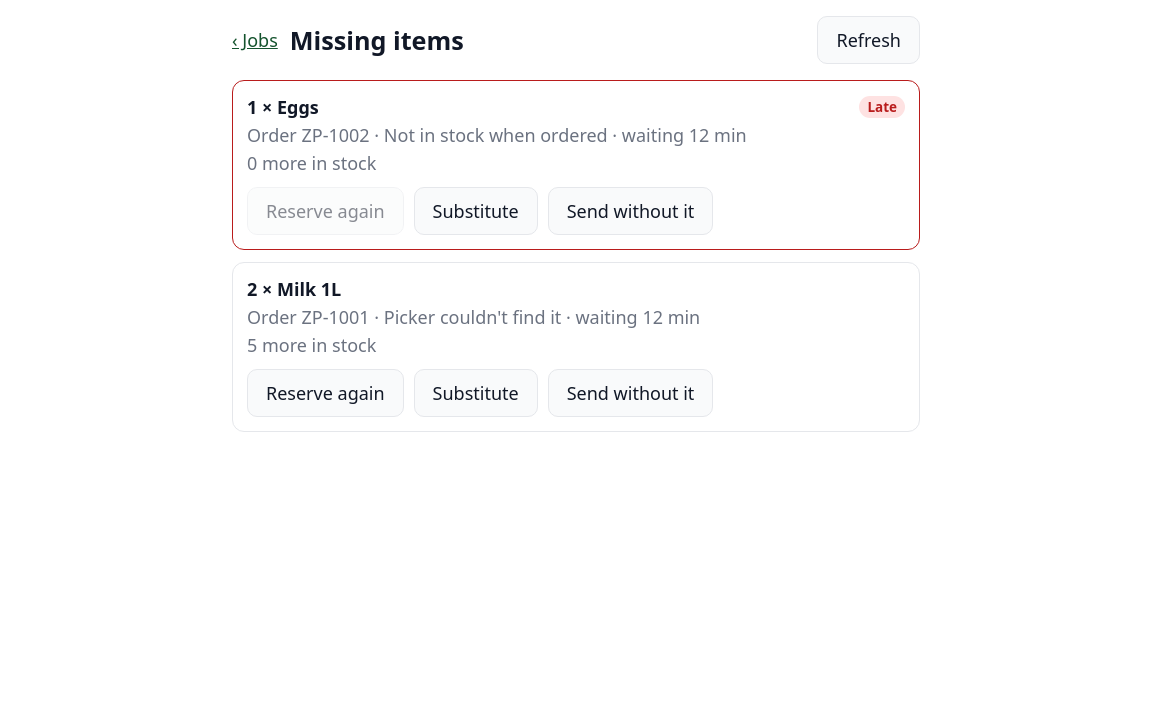
missing items screen › substitutes a searched product, leaving out the missing one itself
Click the button "Substitute" below "Milk 1L": (476, 393) [414,369,538,417]
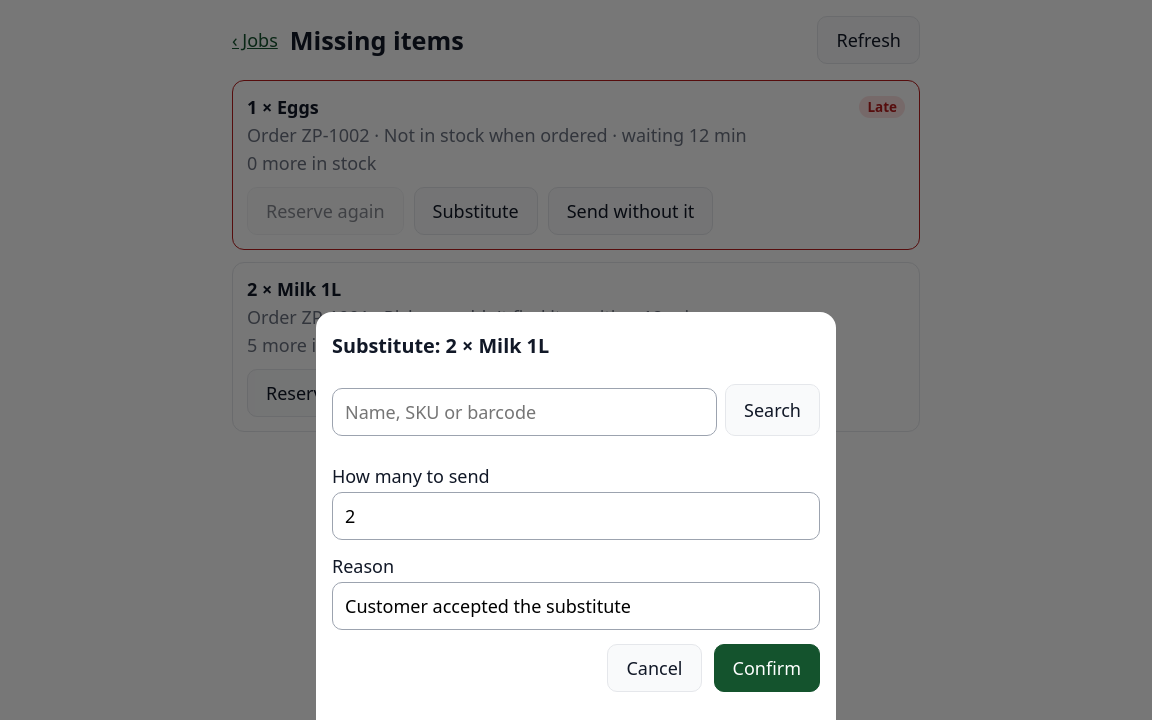
Click the button "Confirm": (767, 668) [714,644,820,692]
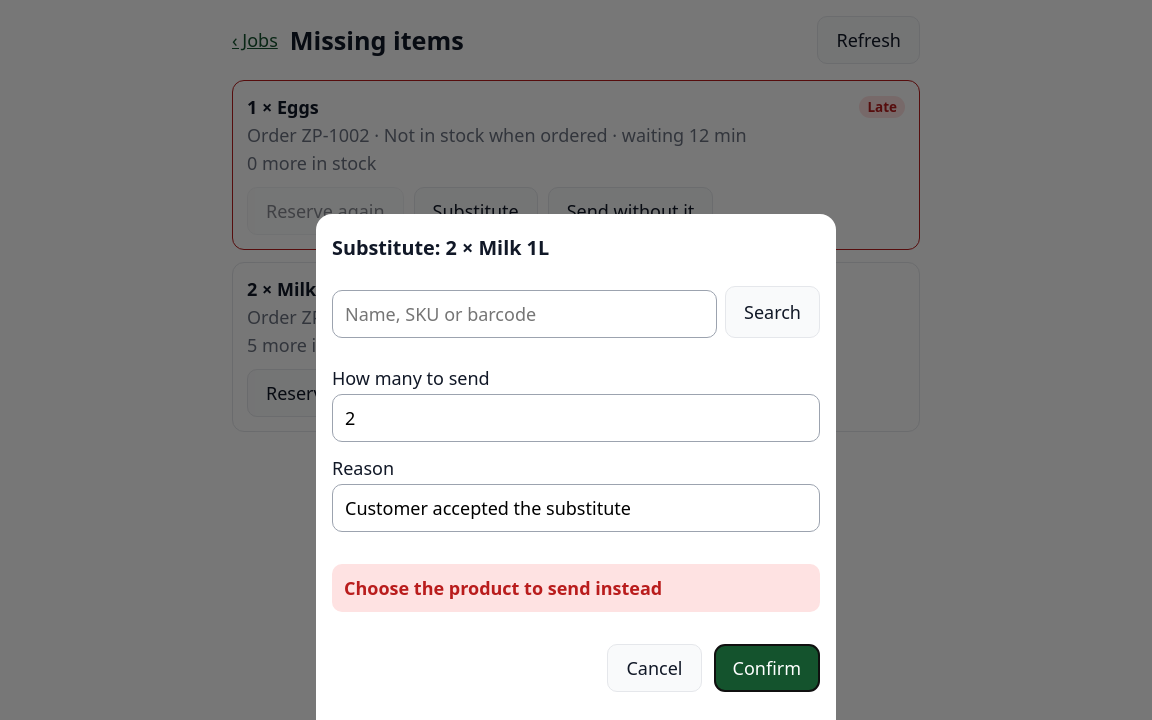
Check: the message reads "Choose the product to send instead", box [344,576,662,600]
In the field named "Search products": (524, 314) [332,290,717,338], type "dairy"
Then press Enter
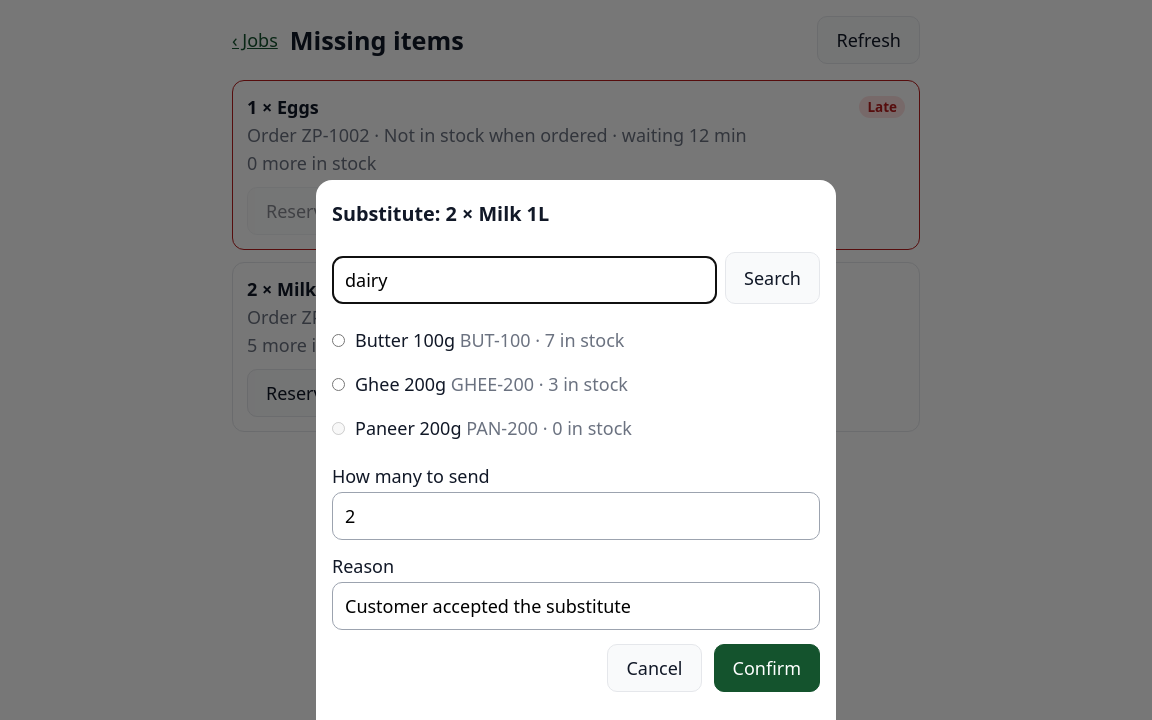
Check: the number of radio buttons is 3
Check: the radio button labelled "Paneer 200g PAN-200 · 0 in stock" is disabled, box [332,422,345,434]
Check: the text "Butter 100g BUT-100 · 7 in stock" is shown, box [332,328,624,352]
Click the radio button labelled "Ghee 200g GHEE-200 · 3 in stock": (338, 384) [332,378,345,390]
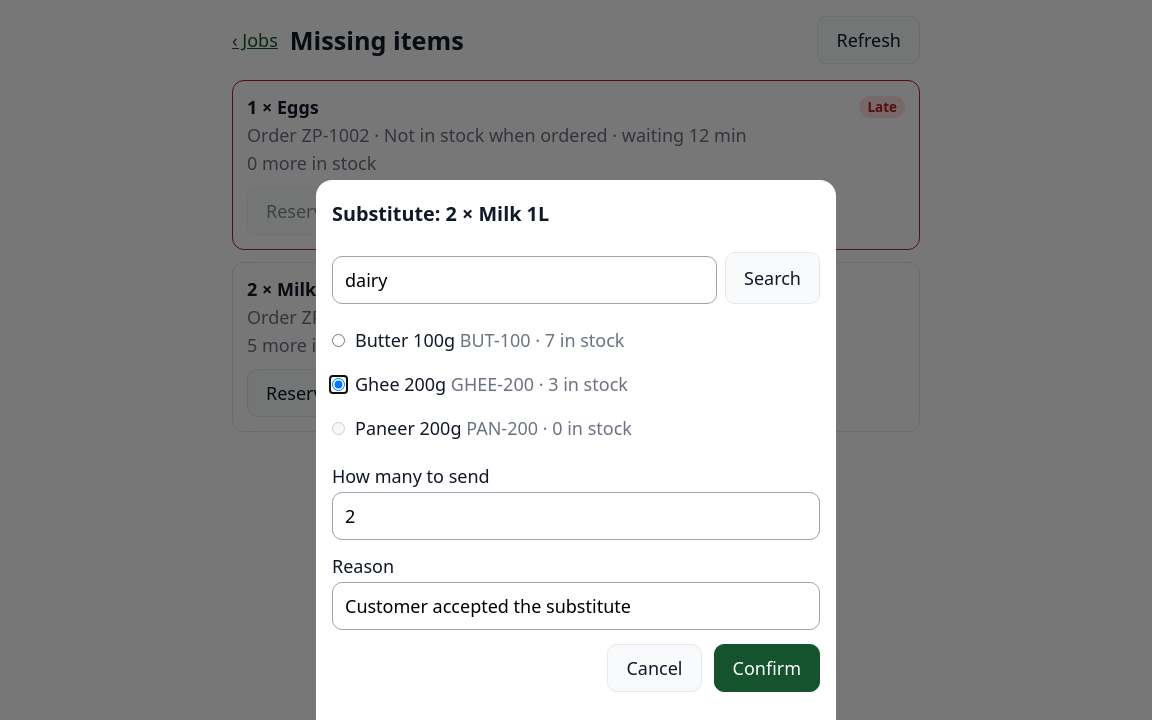
Replace the text in the number field labelled "How many to send" with "1": (576, 516) [332,492,820,540]
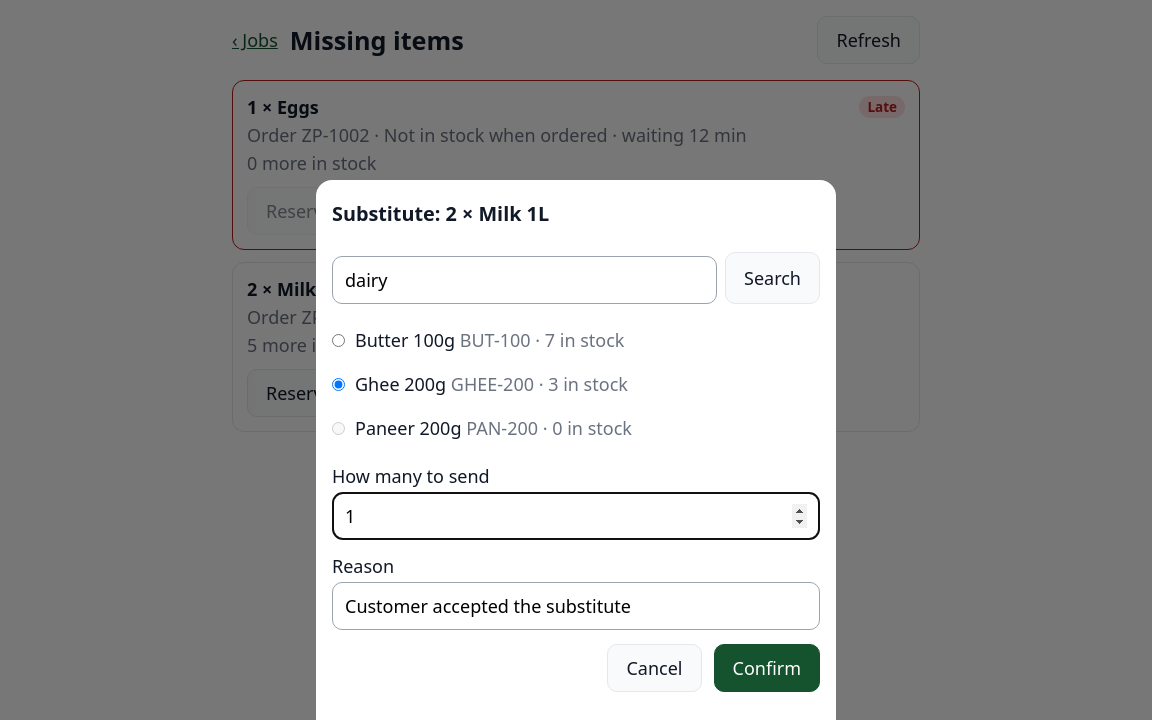
Click the button "Confirm": (767, 668) [714,644,820,692]
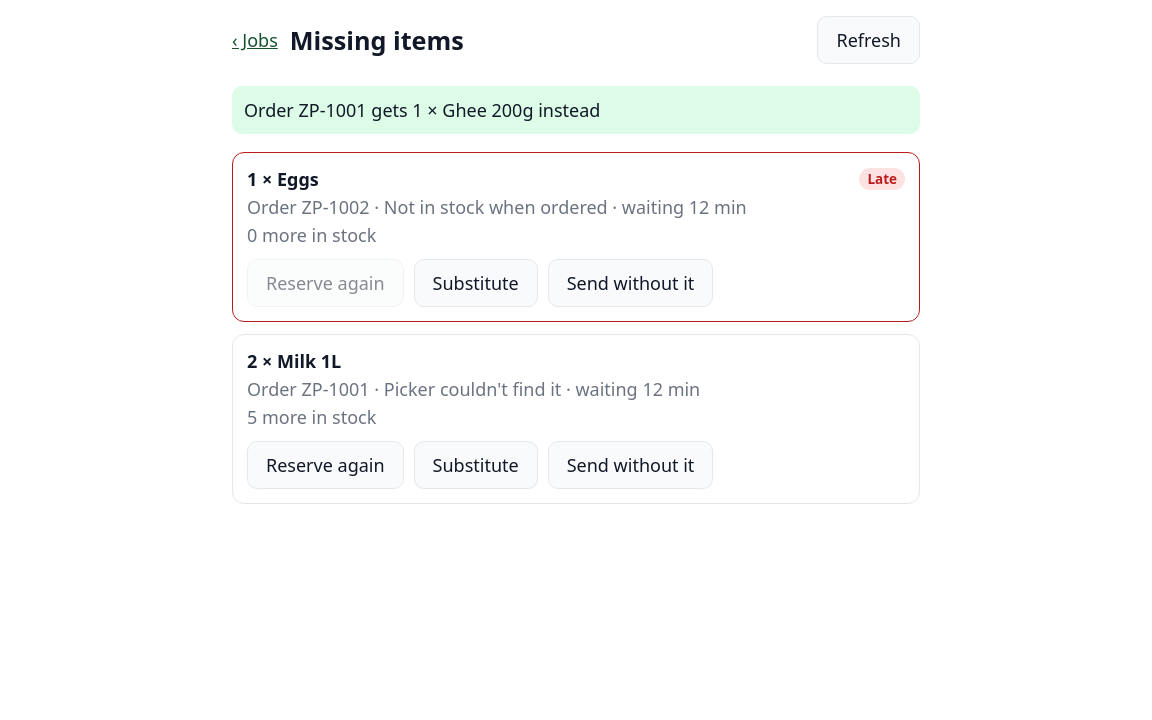
Check: the message reads "Order ZP-1001 gets 1 × Ghee 200g instead", box [244,98,600,122]
